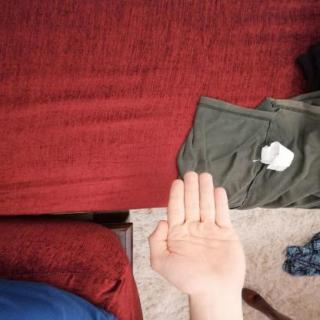SEEN: (139, 165, 253, 302)
